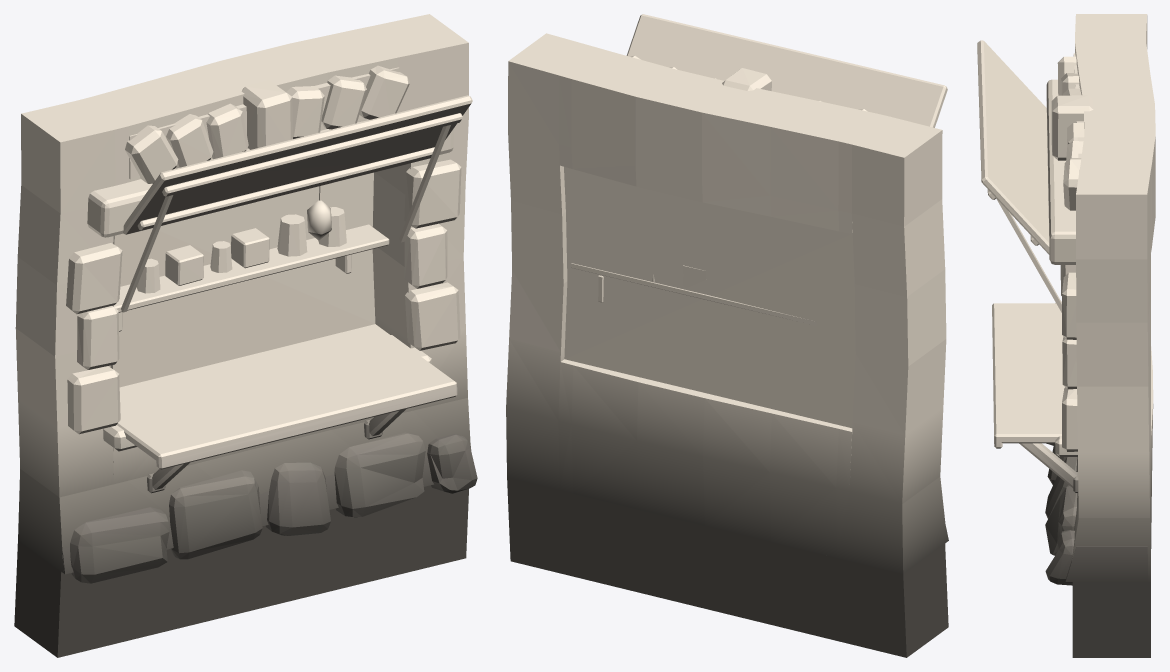
Rendered from SM_VK_Wall_Stone_Shop.fbx.
3 renders of one model, left to right at view 1: azimuth 30°, elevation 25°; view 2: azimuth 150°, elevation 25°; view 3: azimuth 270°, elevation 25°, orthographic. The views are drawn at different scales.
Visible parts, largest first — view 1: SM_VK_Wall_Stone_Shop.001; view 2: SM_VK_Wall_Stone_Shop.001; view 3: SM_VK_Wall_Stone_Shop.001.
Boxes of the visible parts, left/top/right/bottom form: SM_VK_Wall_Stone_Shop.001: left=14, top=14, right=477, bottom=657; SM_VK_Wall_Stone_Shop.001: left=506, top=14, right=948, bottom=657; SM_VK_Wall_Stone_Shop.001: left=977, top=14, right=1155, bottom=657.
Size of the model in its own units: 3.04 by 3.63 by 1.25.
